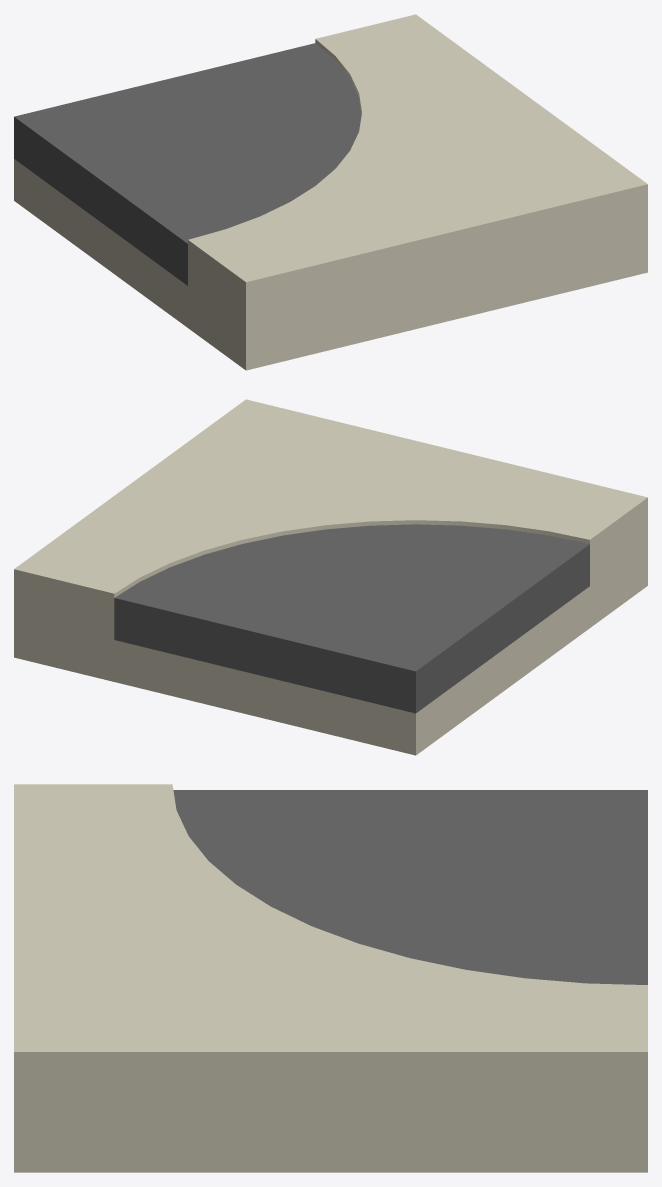
File: tile176.fbx
The picture shows the model from 3 angles, top to bottom: view 1: azimuth 30°, elevation 25°; view 2: azimuth 150°, elevation 25°; view 3: azimuth 270°, elevation 25°; orthographic projection. The views are drawn at different scales.
Parts seen in each view (by area): view 1: tile176; view 2: tile176; view 3: tile176.
Boxes of the visible parts, x1,y1,x2,y2 form: tile176: [14, 14, 647, 370]; tile176: [14, 399, 647, 755]; tile176: [14, 784, 647, 1172].
Size of the model in its own units: 10 by 2.1 by 10.
